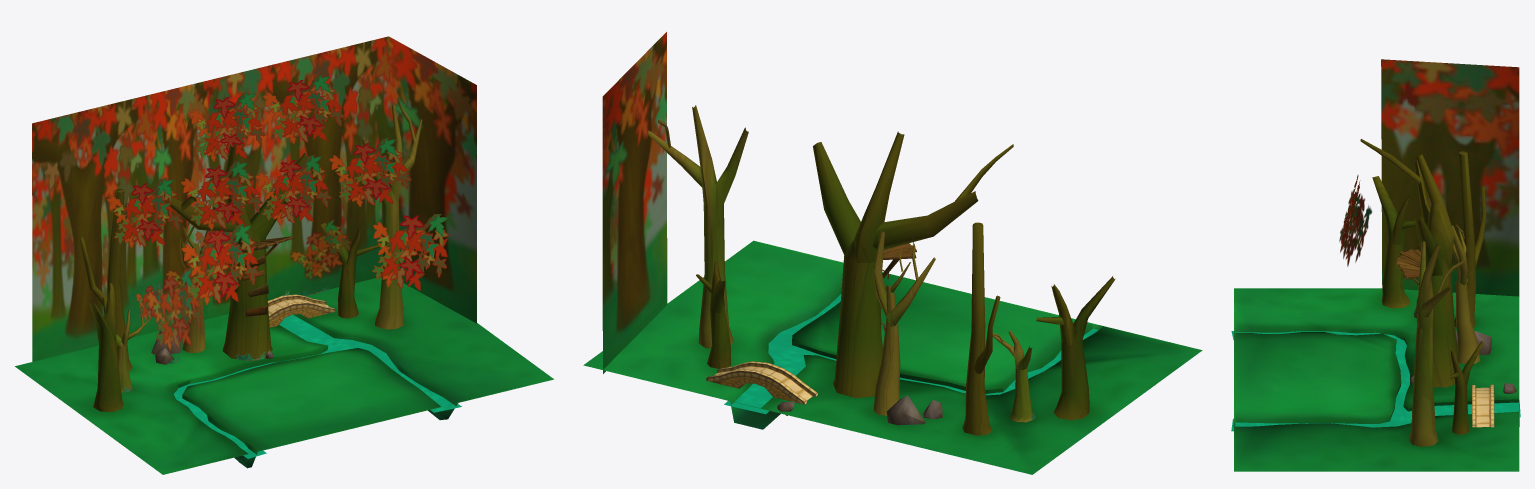
Rendered from treehouse_3players.glb.
3 renders of one model, left to right at view 1: azimuth 30°, elevation 25°; view 2: azimuth 150°, elevation 25°; view 3: azimuth 270°, elevation 25°, orthographic. The views are drawn at different scales.
Parts seen in each view (by area): view 1: forest3, polySurface25, polySurface24, polySurface55, polySurface72, polySurface23, polySurface38, polySurface22, tree_g1_tree_g, water_level, polySurface40, polySurface2 (+10 smaller); view 2: polySurface25, forest3, polySurface38, tree_g1_tree_g, pCylinder2, water_level, polySurface2, o16, polySurface36, new_brideg, treeb, tree_f1_tree_f (+5 smaller); view 3: polySurface25, forest3, tree_g1_tree_g, polySurface38, water_level, polySurface2, pCylinder2, treeb, tree_f1_tree_f, polySurface40, o16, bridge_ground (+7 smaller).
Boxes of the visible parts, x1,y1,x2,y2 form: forest3: (32,36,476,361); polySurface25: (15,277,553,474); polySurface24: (255,137,411,225); polySurface55: (189,74,345,161); polySurface72: (107,160,262,248); polySurface23: (372,214,448,290); polySurface38: (222,144,272,360); polySurface22: (181,223,259,305); tree_g1_tree_g: (361,99,422,329); water_level: (174,314,461,458); polySurface40: (146,269,202,351); polySurface2: (89,303,123,412); polySurface25: (583,240,1202,474); forest3: (602,32,667,373); polySurface38: (833,131,904,397); tree_g1_tree_g: (647,105,748,348); pCylinder2: (962,222,992,435); water_level: (724,294,1098,414); polySurface2: (1053,276,1115,420); o16: (813,142,860,254); polySurface36: (873,191,978,251); new_brideg: (706,361,817,404); treeb: (873,285,900,415); tree_f1_tree_f: (696,259,730,368); polySurface25: (1233,288,1519,471); forest3: (1381,59,1519,296); tree_g1_tree_g: (1409,241,1463,446); polySurface38: (1416,154,1458,387); water_level: (1231,331,1520,431); polySurface2: (1372,176,1410,308); pCylinder2: (1454,151,1476,327); treeb: (1456,257,1480,364); tree_f1_tree_f: (1449,341,1483,434); polySurface40: (1339,190,1371,266); o16: (1414,215,1442,275); bridge_ground: (1475,387,1490,427).
Size of the model in its own units: 68.43 by 49.73 by 45.11.
22 materials, 22 textured.
